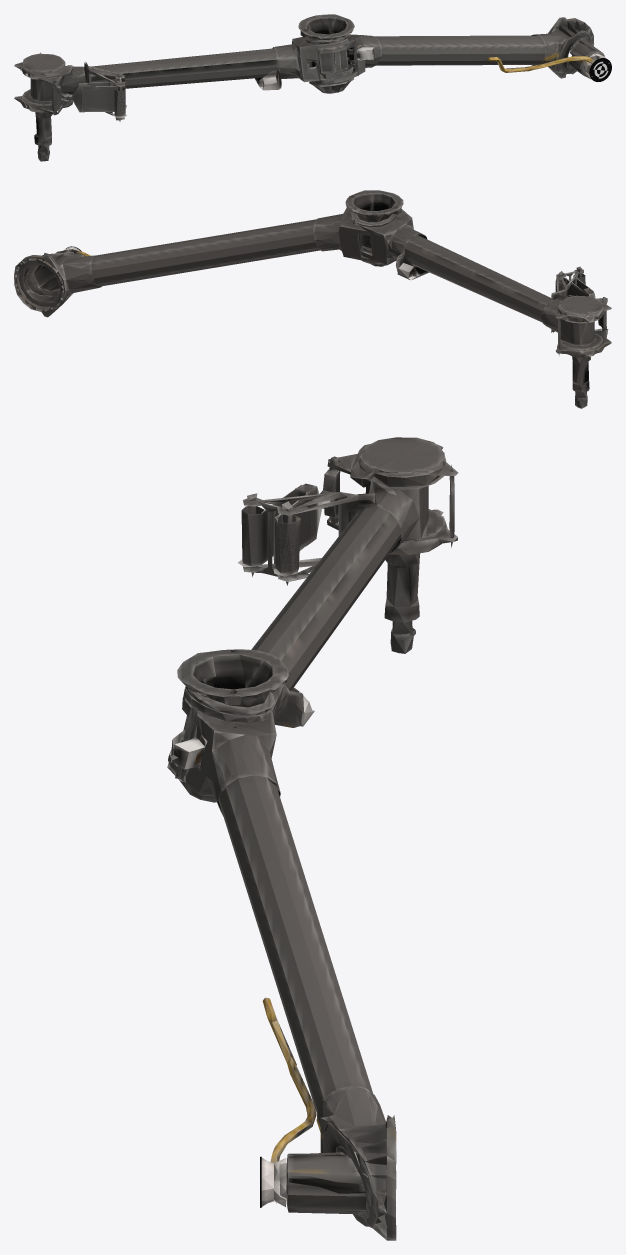
The model's file is rocker_right.obj.
3 views of the same model, one above another, from view 1: azimuth 30°, elevation 25°; view 2: azimuth 150°, elevation 25°; view 3: azimuth 270°, elevation 25° (orthographic). The views are drawn at different scales.
Bounding box in the file's own units: 1.78 × 0.4439 × 0.3956.
1 material, 1 textured.
